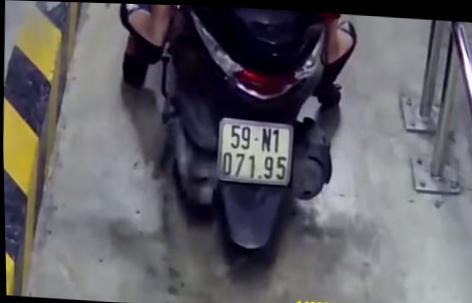LP: (214, 114, 295, 186)
